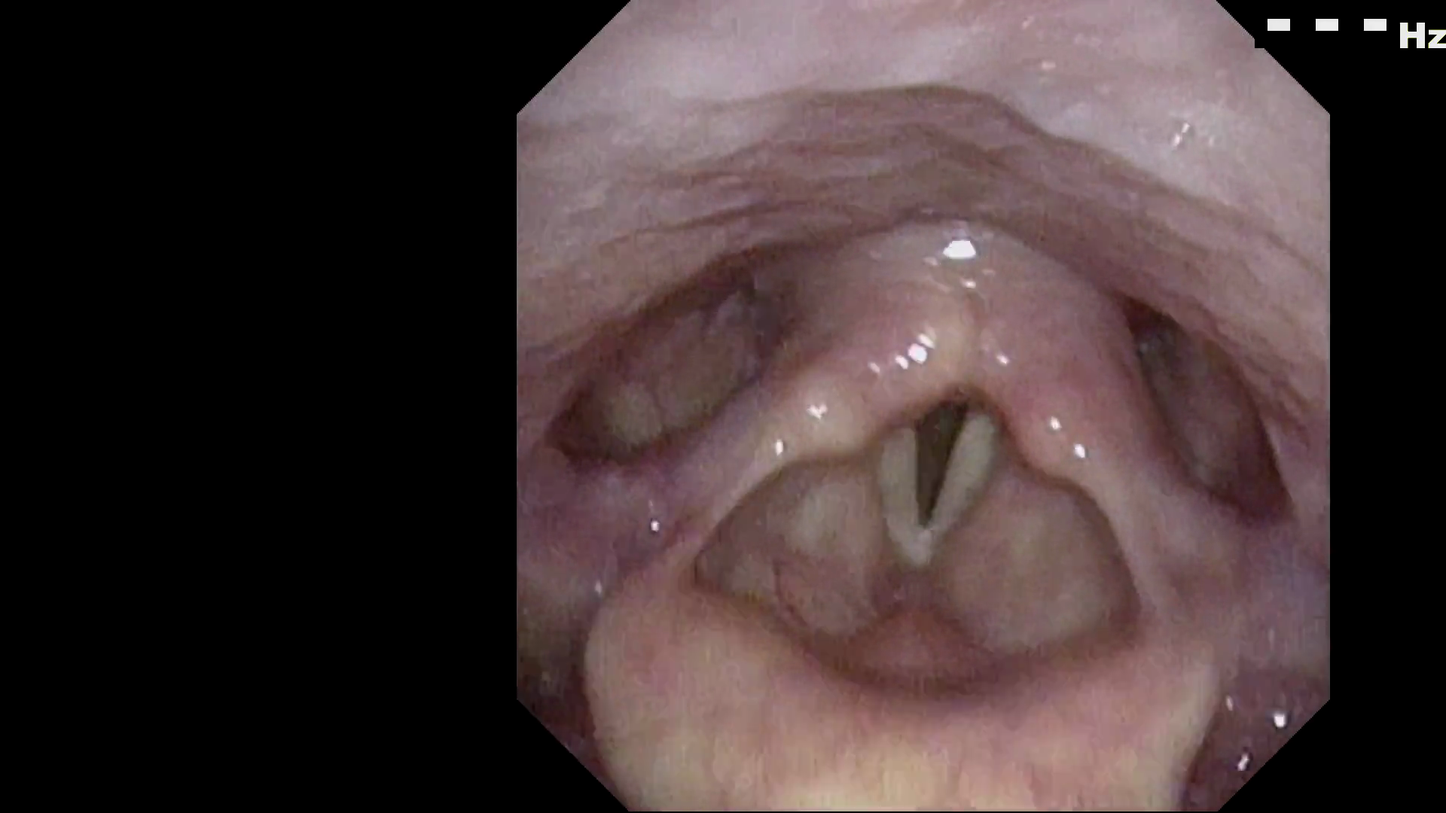epiglottis: (573, 509, 1220, 748)
trachea: (849, 347, 1028, 572)
